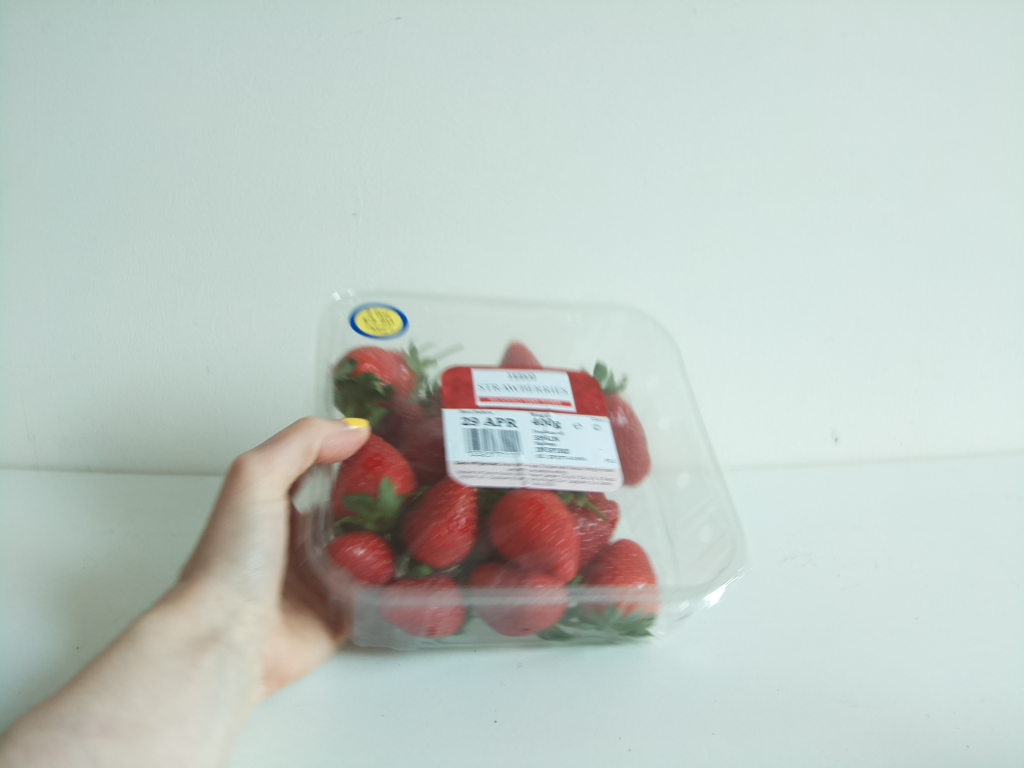soft-fruit: (296, 282, 759, 663)
